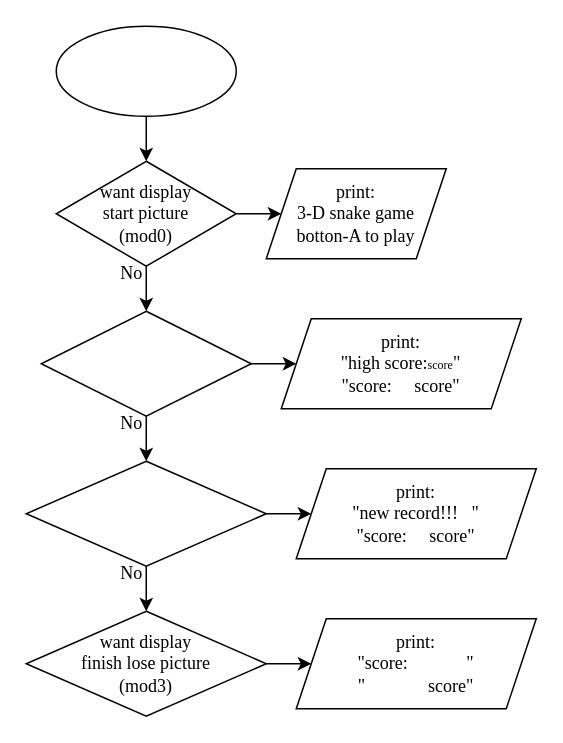
Some shapes in this 563 by 743 pixel diagram are drawn without their labels. The centre of each missing label's shape, as x and y in pixels:
"lcd_display" belongs at pixel 145 70.
"want display finish win picture (mod2)" belongs at pixel 145 513.
"want display playing picture (mod1)" belongs at pixel 145 363.
